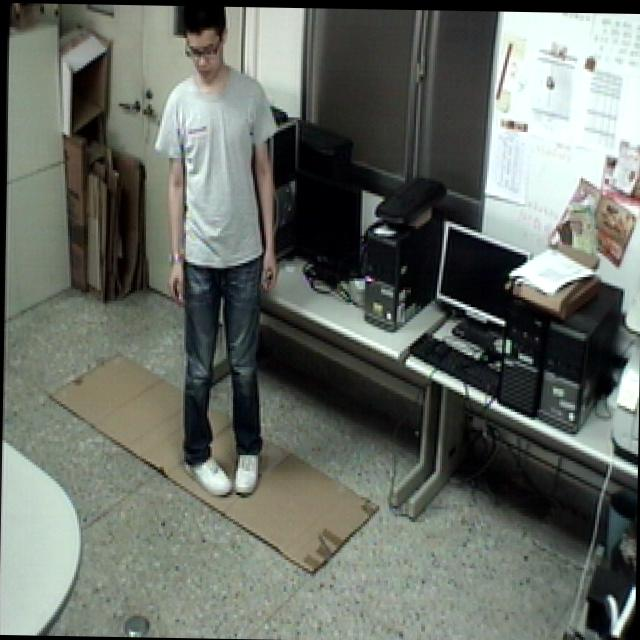stand: (142, 0, 285, 503)
